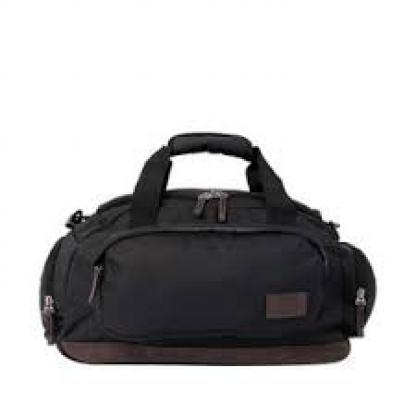morral: (30, 133, 392, 377)
